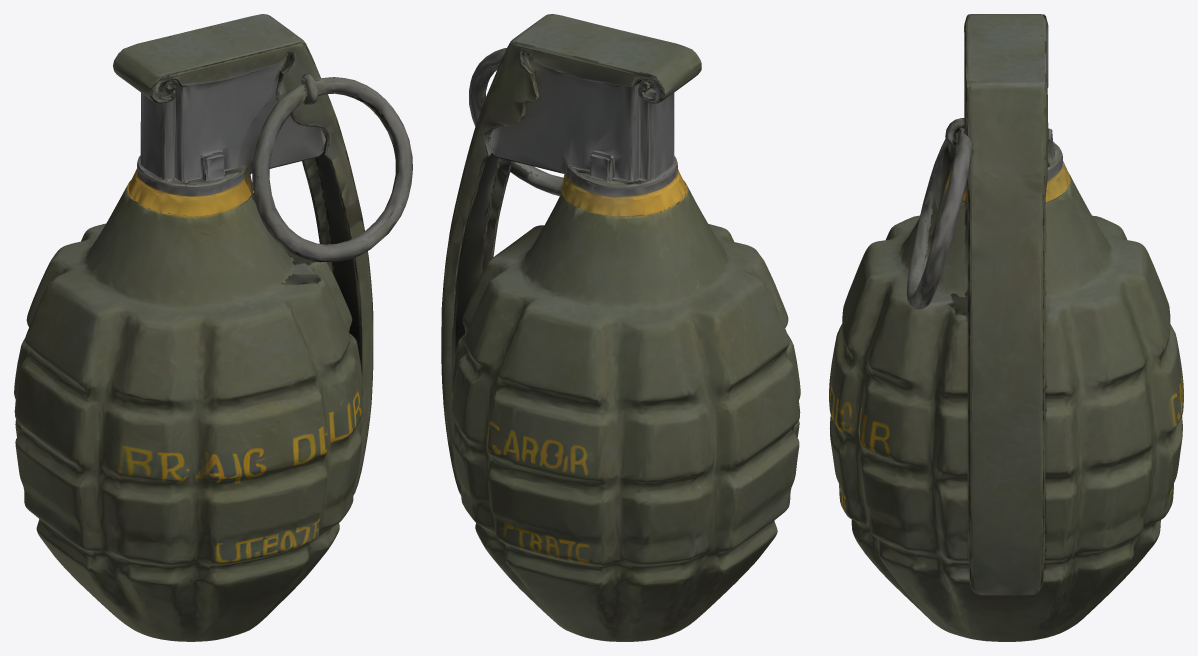
Rendered from grenade.glb.
The picture shows the model from 3 angles, left to right: view 1: azimuth 30°, elevation 25°; view 2: azimuth 150°, elevation 25°; view 3: azimuth 270°, elevation 25°; orthographic projection. The views are drawn at different scales.
Parts seen in each view (by area): view 1: geometry_0, geometry_2, geometry_1; view 2: geometry_0, geometry_2, geometry_1; view 3: geometry_0, geometry_2, geometry_1.
Boxes of the visible parts, x1,y1,x2,y2 form: geometry_0: (14, 180, 363, 641); geometry_2: (113, 14, 373, 494); geometry_1: (252, 74, 412, 261); geometry_0: (451, 180, 800, 641); geometry_2: (441, 14, 701, 494); geometry_1: (469, 48, 563, 196); geometry_0: (829, 173, 1183, 641); geometry_2: (945, 14, 1070, 595); geometry_1: (906, 118, 972, 309).
Size of the model in its own units: 1.19 by 1.91 by 1.07.
Materials: 2 (2 with a texture image).
